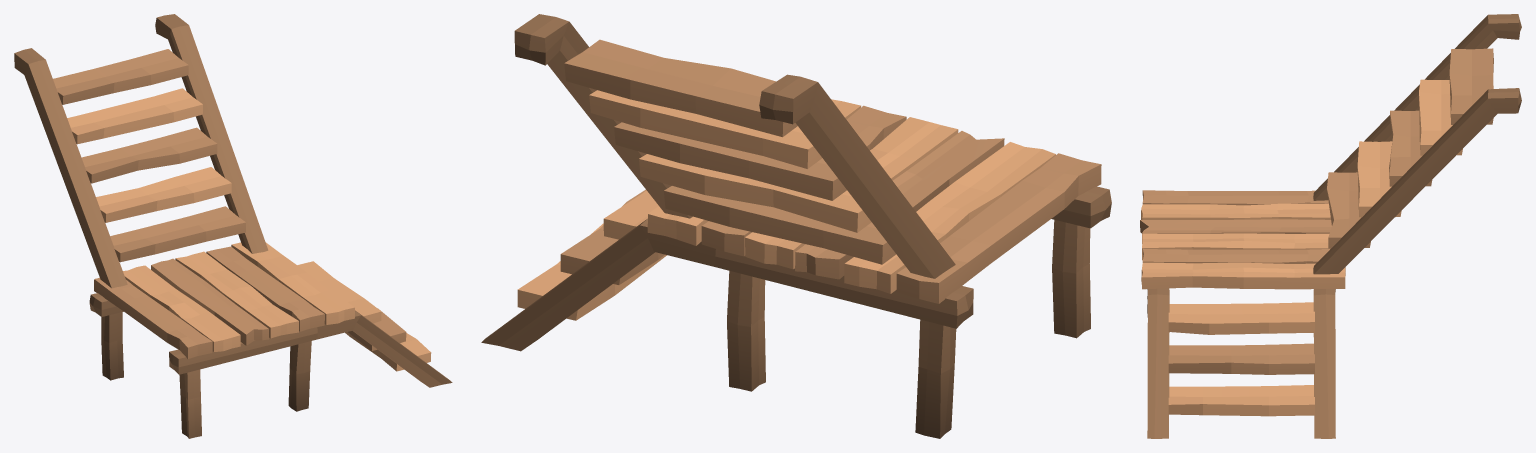
The model's file is steps-3.glb.
3 renders of one model, left to right at view 1: azimuth 30°, elevation 25°; view 2: azimuth 150°, elevation 25°; view 3: azimuth 270°, elevation 25°, orthographic. The views are drawn at different scales.
Visible parts, largest first — view 1: steps 3; view 2: steps 3; view 3: steps 3.
Part boxes in pixels (bbox=[...]): steps 3: bbox=[14, 14, 452, 438]; steps 3: bbox=[481, 14, 1111, 438]; steps 3: bbox=[1140, 14, 1521, 438].
Bounding box in the file's own units: 4.13 × 3.82 × 4.61.
1 material, 1 textured.
